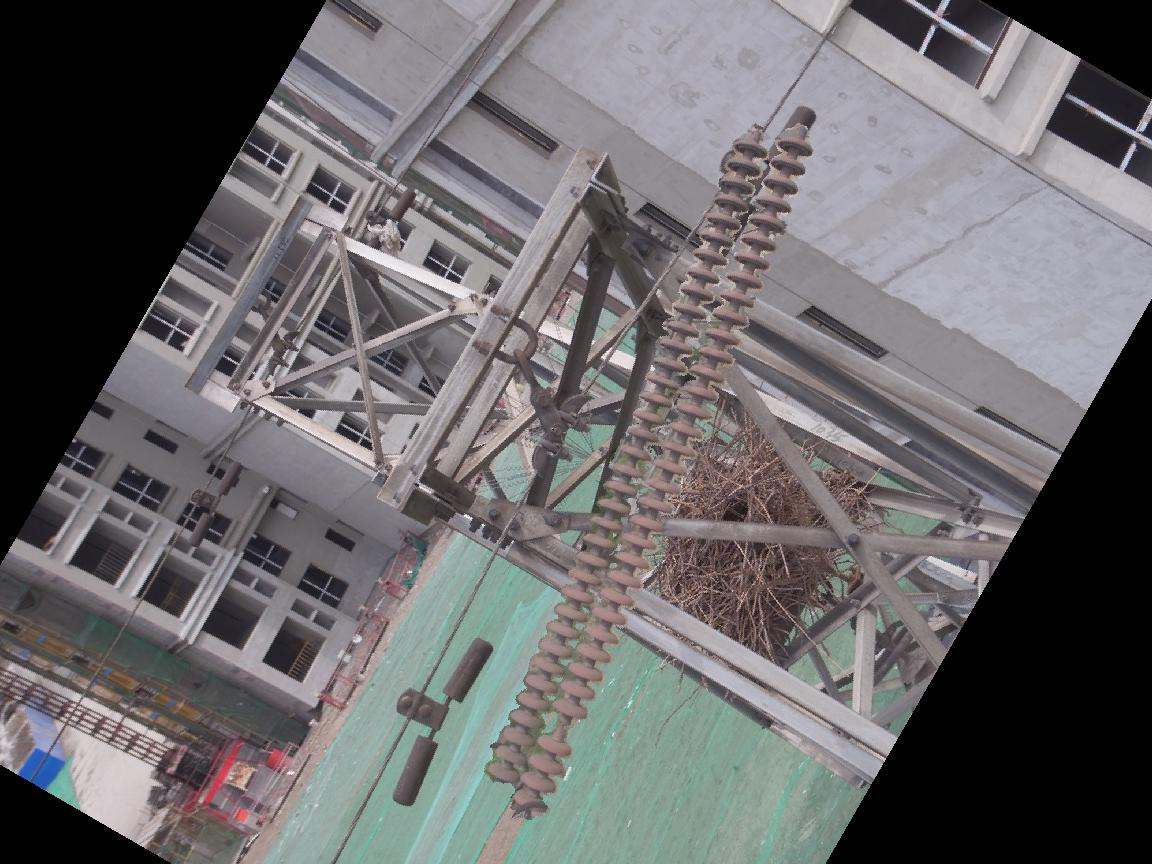insulator: (479, 117, 820, 823)
insulator_stringdrop: (534, 696, 588, 759)
